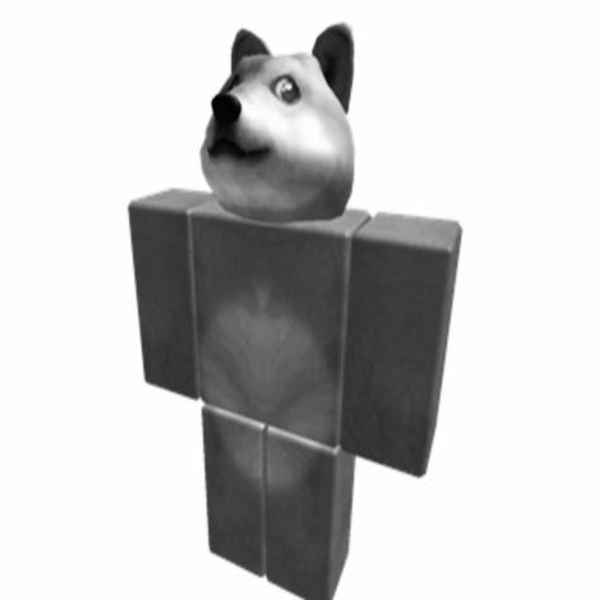doge: (193, 19, 368, 234)
